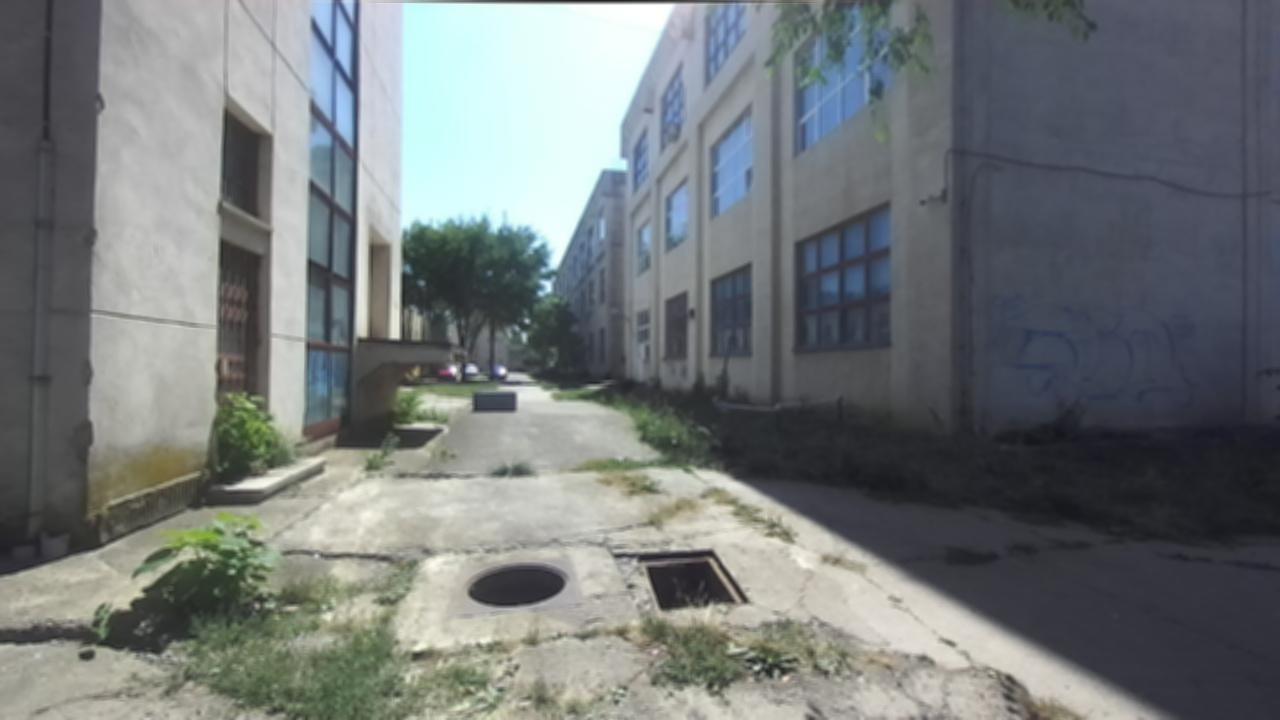drain: (633, 543, 753, 611), (458, 559, 572, 608)
